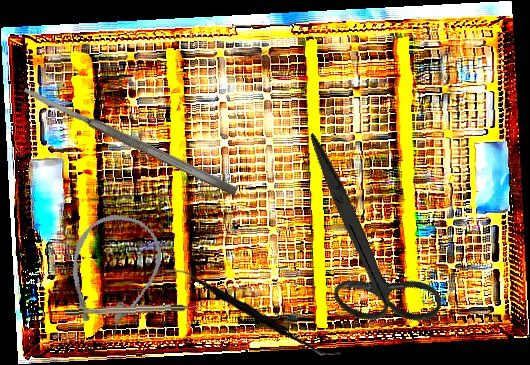Cannula: (53, 205, 171, 345)
Hook Surgical: (64, 303, 208, 316)
Iris Scissors: (242, 133, 484, 352)
Spatula Surgical: (22, 83, 239, 198), (165, 259, 343, 364)
